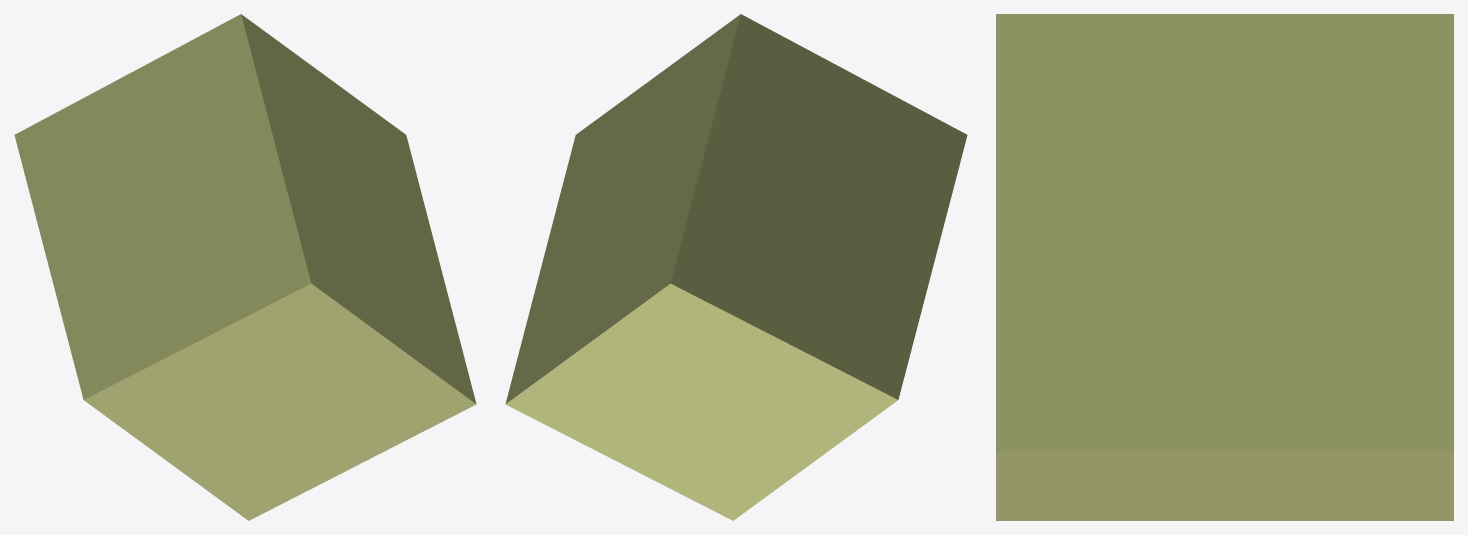
3 views of the same model, side by side, from view 1: azimuth 30°, elevation 25°; view 2: azimuth 150°, elevation 25°; view 3: azimuth 270°, elevation 25° (orthographic). The views are drawn at different scales.
Parts seen in each view (by area): view 1: 0_1_2_0_3_3_0_3_2_2_3; view 2: 0_1_2_0_3_3_0_3_2_2_3; view 3: 0_1_2_0_3_3_0_3_2_2_3.
Part boxes in pixels (x1,y1,x2,y2): 0_1_2_0_3_3_0_3_2_2_3: [14, 14, 476, 520]; 0_1_2_0_3_3_0_3_2_2_3: [505, 14, 967, 520]; 0_1_2_0_3_3_0_3_2_2_3: [996, 14, 1453, 520].
Bounding box in the file's own units: 9.34 × 10.45 × 9.
